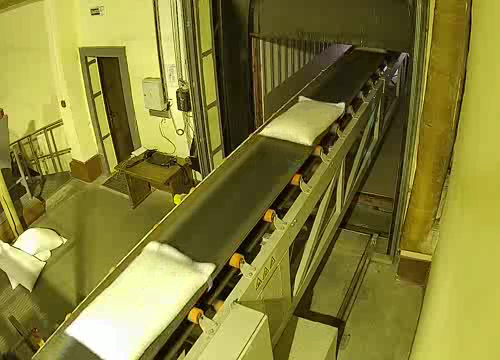bag: (54, 239, 225, 360), (252, 89, 353, 151), (350, 43, 389, 54)
